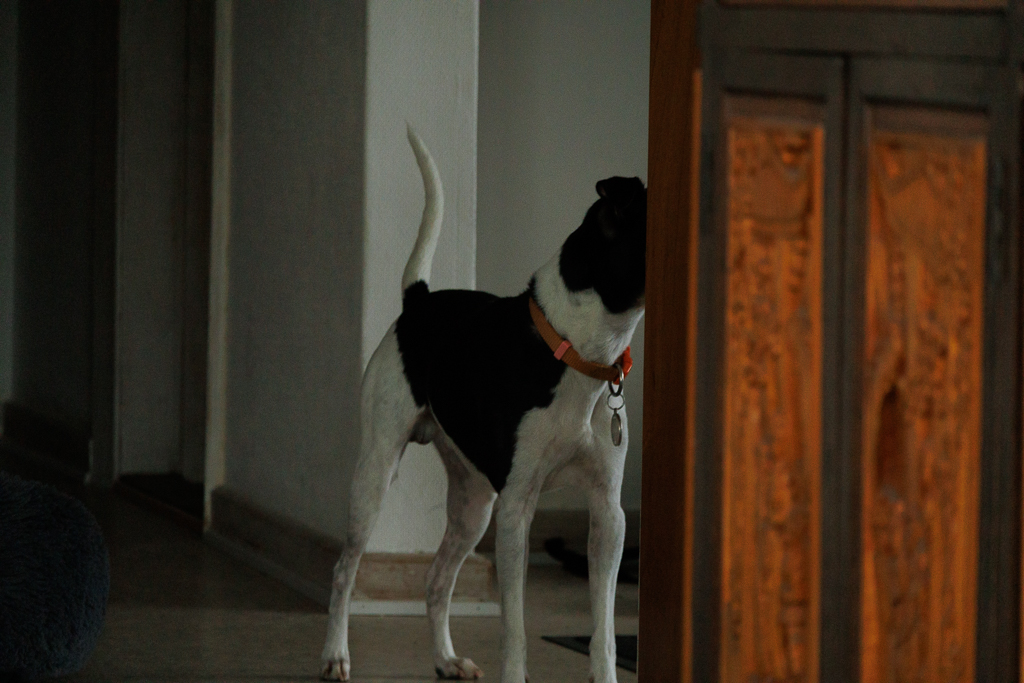Dog: (314, 109, 662, 683)
